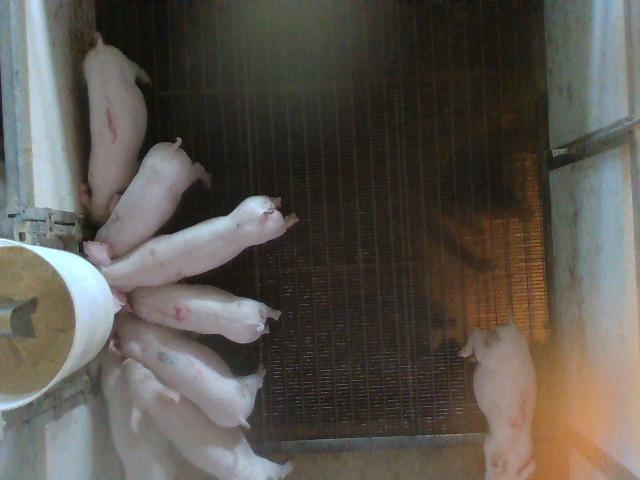pig-1: (84, 34, 149, 224)
pig-3: (460, 321, 536, 478)
pig-4: (129, 285, 281, 343)
